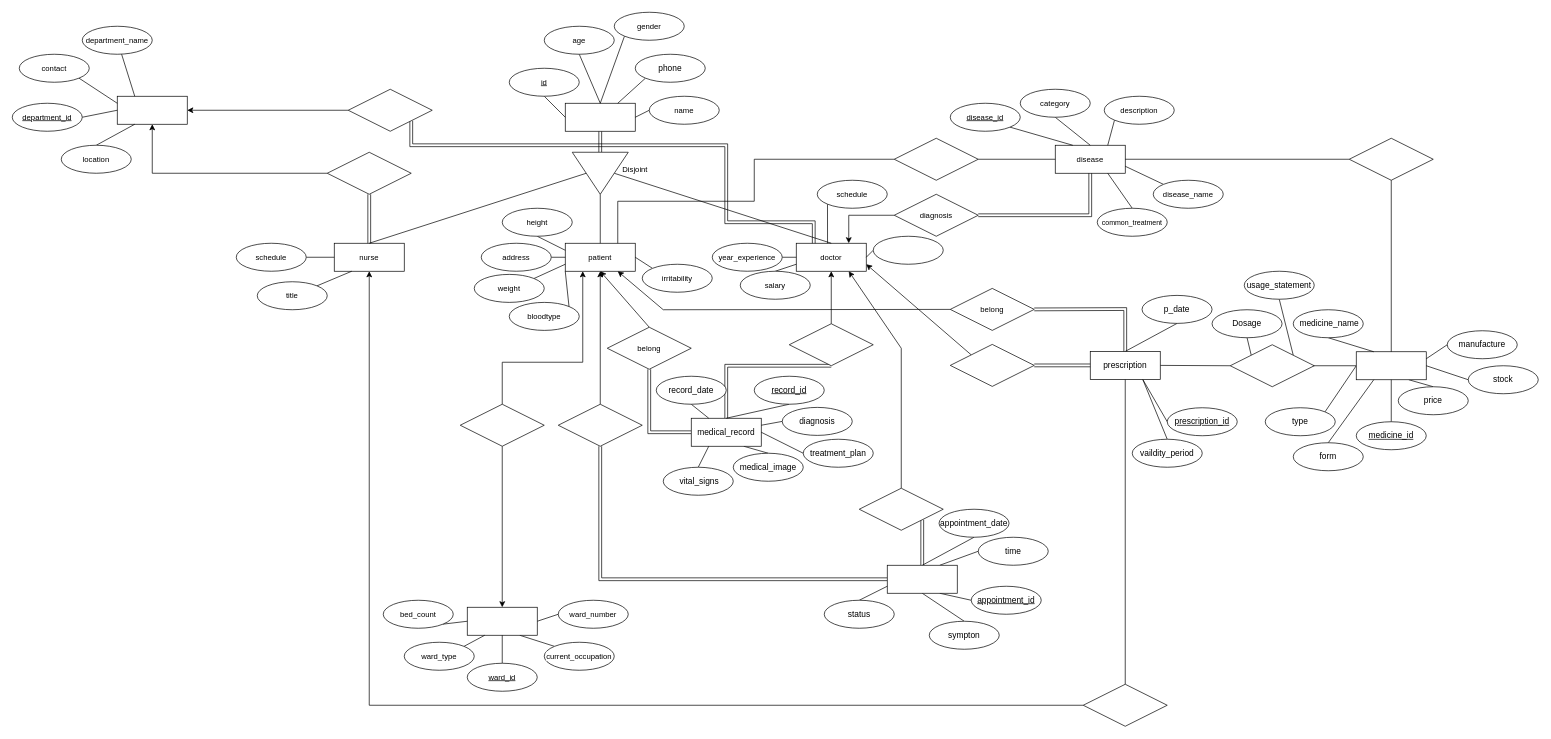
This 1551x739 diagram has some shape labels left out. Each missing label, with the centre of its shape:
appointment: point 922,579
appointment_doctor: point 901,509
appointment_patient: point 600,425
Belong to D: point 390,110
Belong to N: point 369,173
contains: point 1272,365
create: point 831,344
department: point 152,110
execute: point 1125,705
has: point 936,159
ISA: point 600,173
issure: point 992,365
medicine: point 1391,365
occapies: point 502,425
person: point 600,117
speciality: point 908,250
treats: point 1391,159
ward: point 502,621
